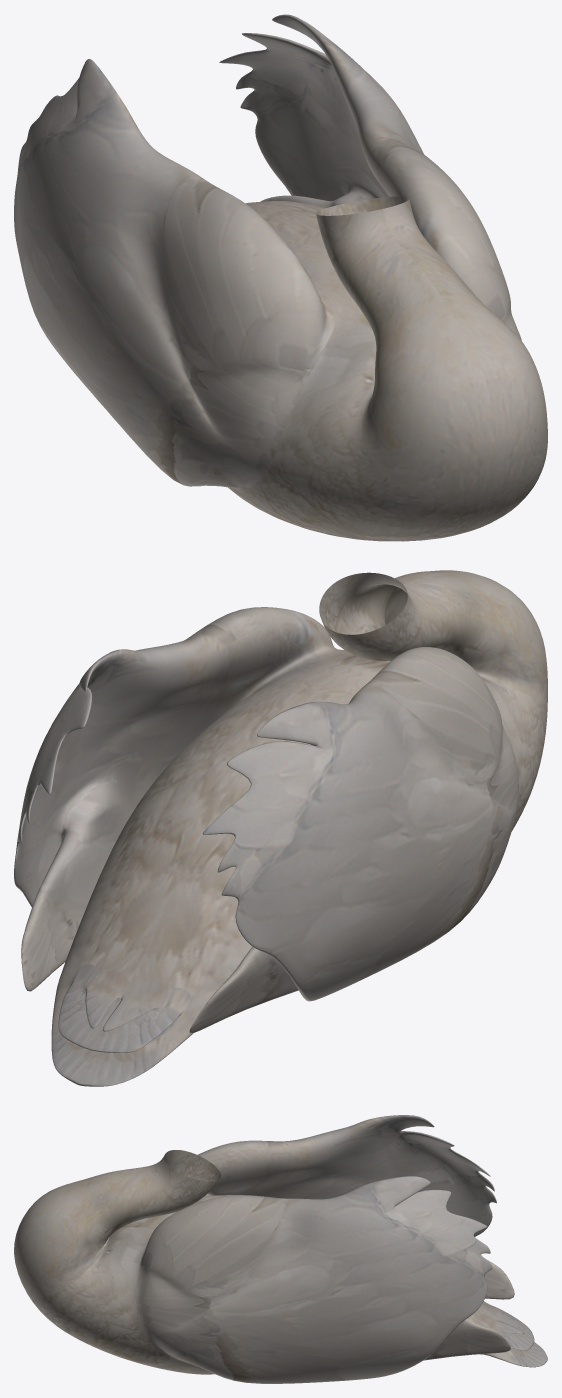
The model's file is CuerpoCisne.obj.
3 views of the same model, one above another, from view 1: azimuth 30°, elevation 25°; view 2: azimuth 150°, elevation 25°; view 3: azimuth 270°, elevation 25° (orthographic). The views are drawn at different scales.
Parts seen in each view (by area): view 1: polySurface2 _Mute_Swan; view 2: polySurface2 _Mute_Swan; view 3: polySurface2 _Mute_Swan.
Boxes of the visible parts, x1,y1,x2,y2 form: polySurface2 _Mute_Swan: (14, 14, 547, 541); polySurface2 _Mute_Swan: (14, 570, 547, 1086); polySurface2 _Mute_Swan: (14, 1115, 547, 1383).
Bounding box in the file's own units: 36.58 × 35.09 × 77.67.
1 material, 1 textured.
